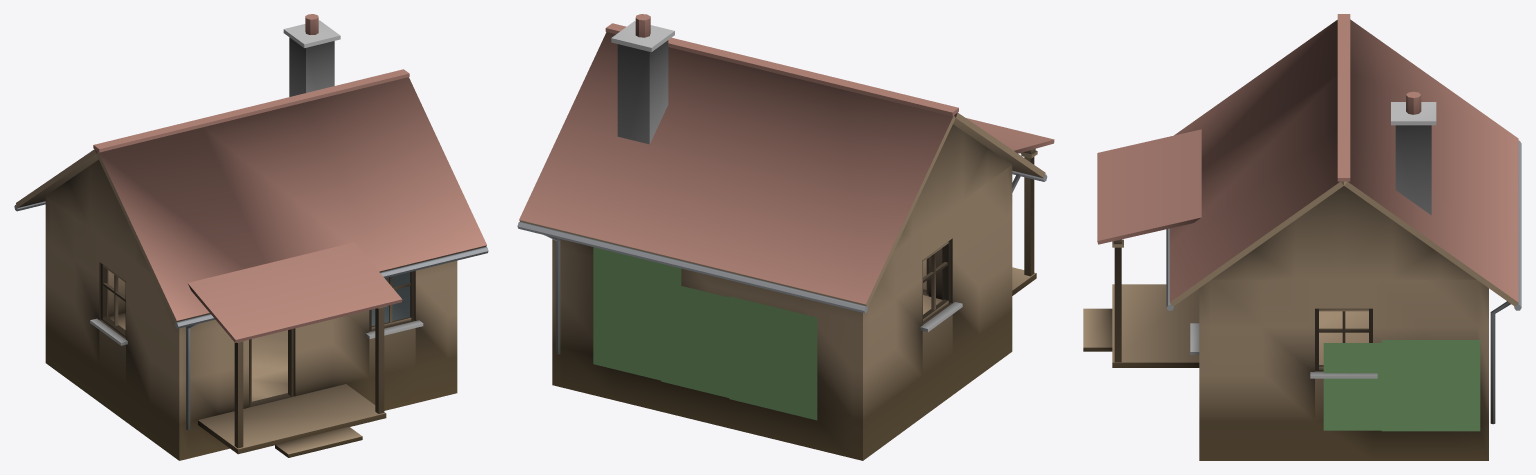
Rendered from cottage_hidden.glb.
3 renders of one model, left to right at view 1: azimuth 30°, elevation 25°; view 2: azimuth 150°, elevation 25°; view 3: azimuth 270°, elevation 25°, orthographic. The views are drawn at different scales.
Visible parts, largest first — view 1: cottage_hidden; view 2: cottage_hidden; view 3: cottage_hidden.
Part boxes in pixels (x1,y1,x2,y2): cottage_hidden: [14, 14, 488, 460]; cottage_hidden: [517, 14, 1054, 460]; cottage_hidden: [1083, 14, 1521, 460].
Size of the model in its own units: 6.7 by 6.5 by 7.57.
